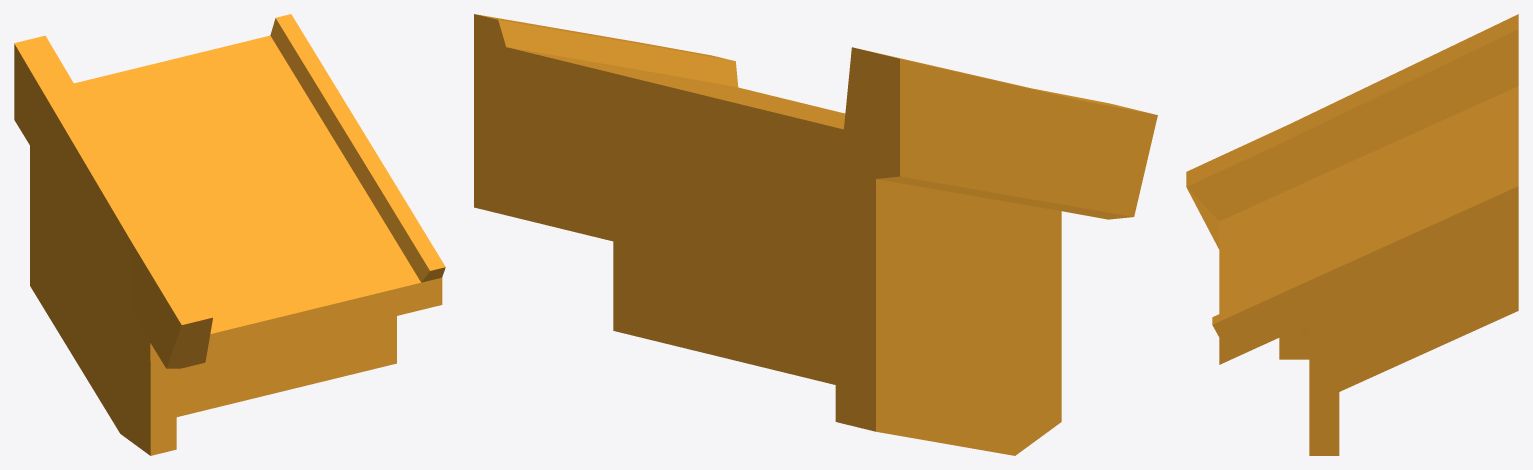
File: SM_Roof_Metal_Moderate_Edge_Front.fbx
3 renders of one model, left to right at view 1: azimuth 30°, elevation 25°; view 2: azimuth 150°, elevation 25°; view 3: azimuth 270°, elevation 25°, orthographic. The views are drawn at different scales.
Parts seen in each view (by area): view 1: roof-metal-moderate-edge-front; view 2: roof-metal-moderate-edge-front; view 3: roof-metal-moderate-edge-front.
Part boxes in pixels (<box>): roof-metal-moderate-edge-front: <box>14,14,445,455</box>; roof-metal-moderate-edge-front: <box>474,14,1157,455</box>; roof-metal-moderate-edge-front: <box>1186,14,1518,455</box>.
Bounding box in the file's own units: 0.5301 × 0.5999 × 0.5555.
